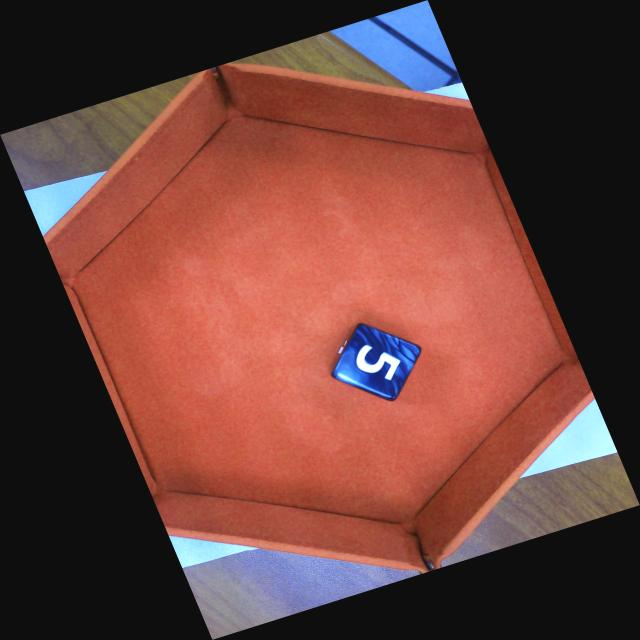dice: (327, 321, 423, 403)
